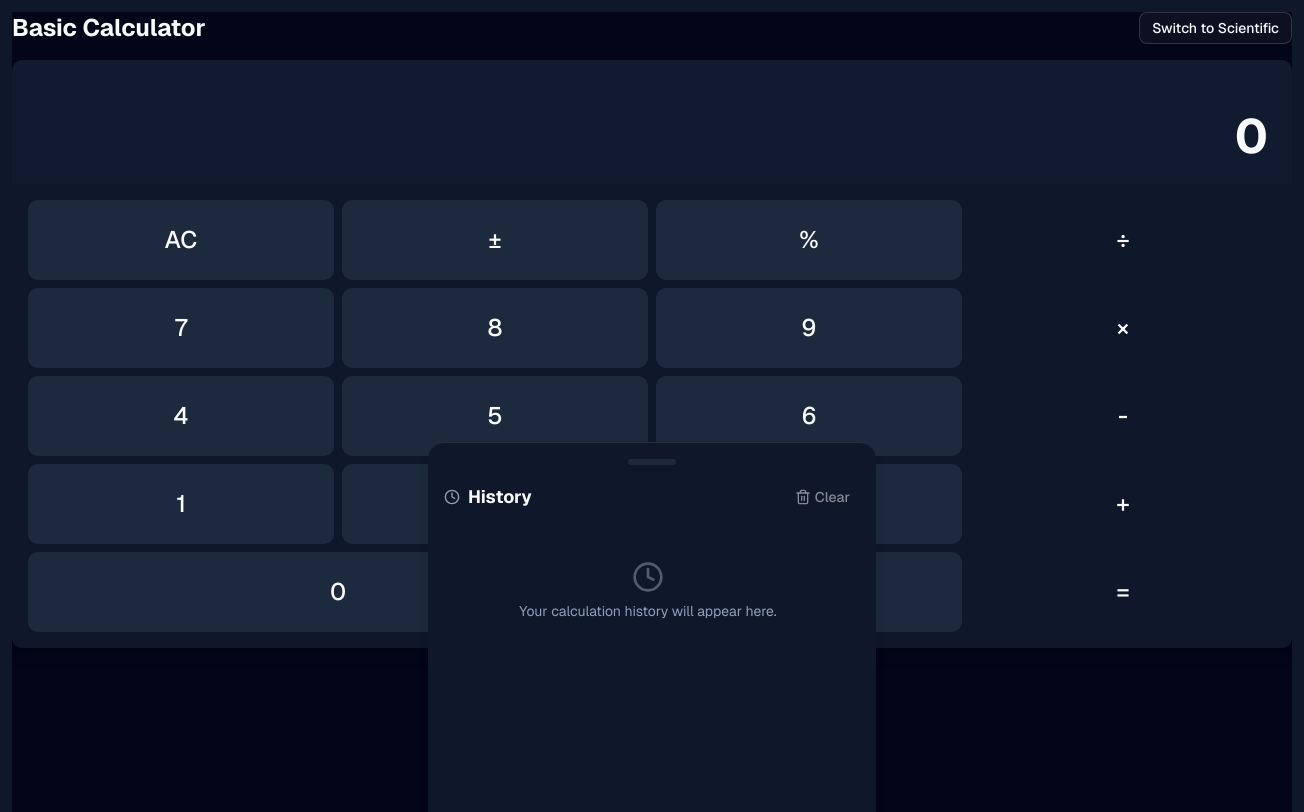
Test case: Calculator - Complete Test Suite › Basic Number Entry › displays single digit numbers when clicked
Click the button with test id "button-7" at [181, 328], box [28,288,334,368]
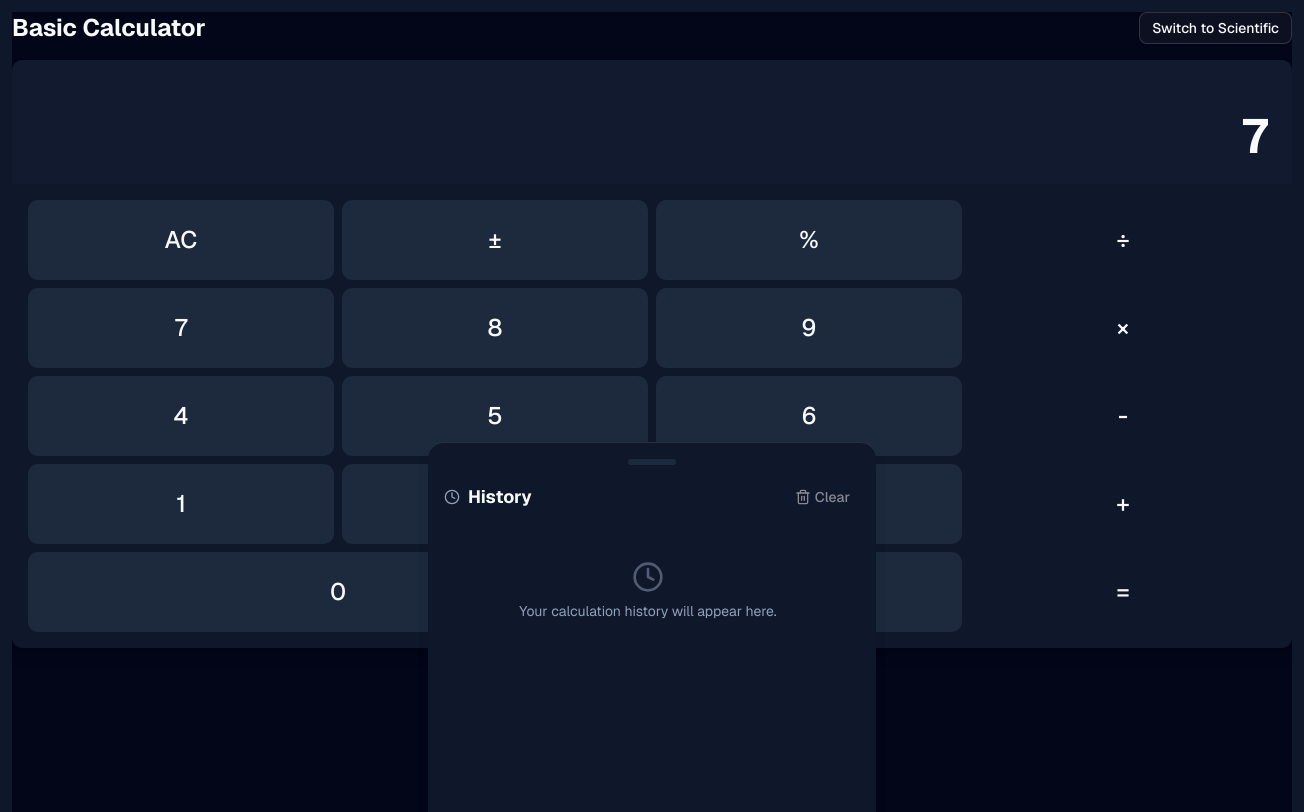
Expected: the text with test id "calculator-display" reads "7", [1242,105,1268,167]
